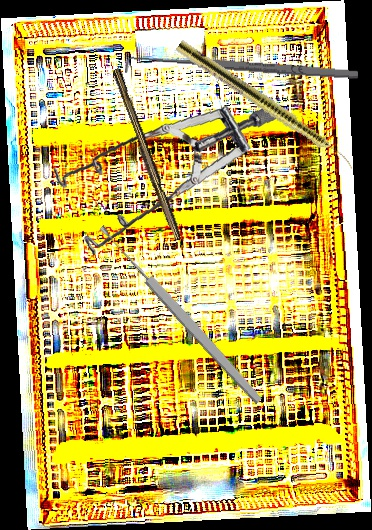Handpiece: (173, 38, 360, 173)
Hook Surgical: (124, 50, 359, 90)
Scalpel Handle: (106, 67, 186, 243)
Speculum: (45, 79, 283, 276)
Surgical Spoon: (96, 221, 265, 407)
